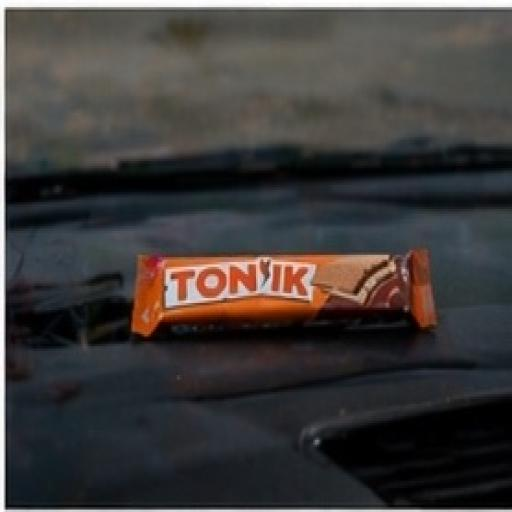tonik: (95, 181, 484, 418)
